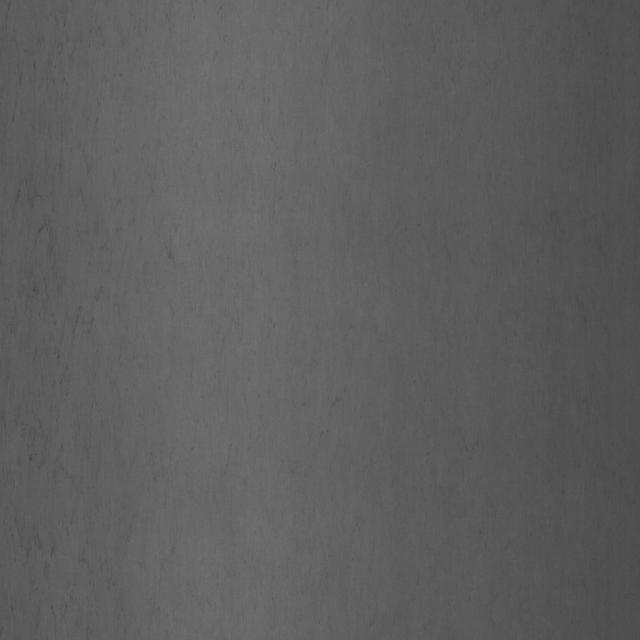inclusion: (9, 98, 123, 550)
